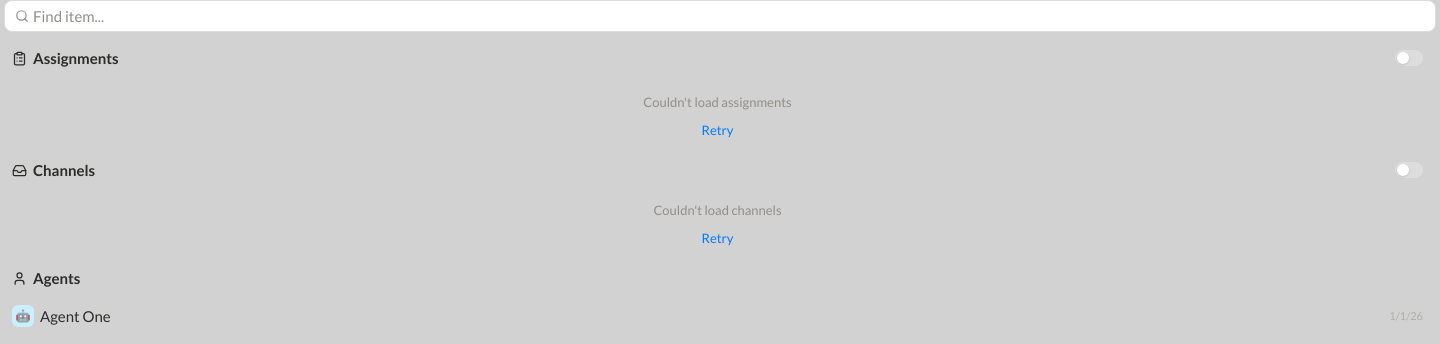
HomeSidebar › bulk thread hydration › renders a distinguishable error state instead of the empty-state copy when the bulk fetch fails, and a retry recovers
Expected: the element with test id "home-channels-error" is shown, [653,202,782,250]
Expected: the element with test id "home-assignments-error" is shown, [643,94,792,142]
What coordinates should you click on to do the following:
click the button with test id "home-channels-retry"
I would click on:
 (717, 238)
Its box is [702,226,733,250].
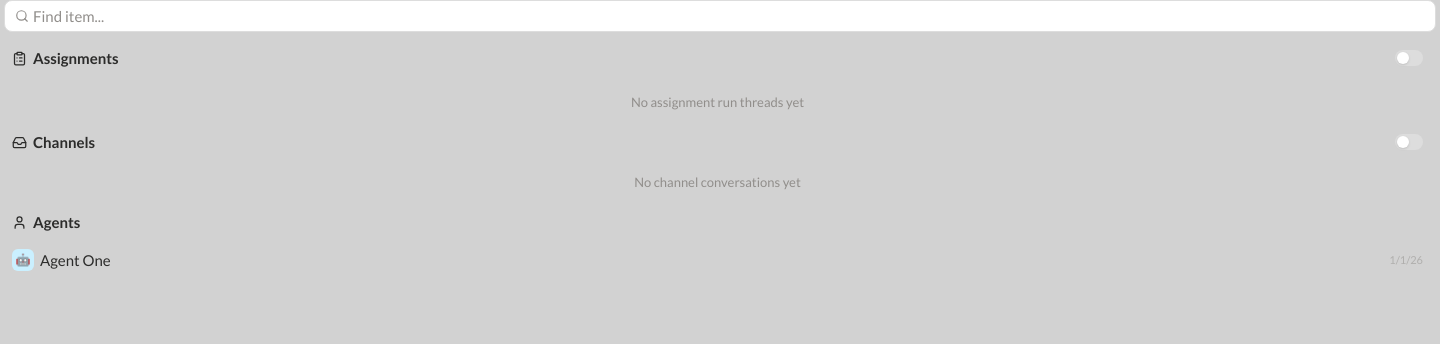
Now the text "No channel conversations yet" is shown, box [634,174,801,190]
